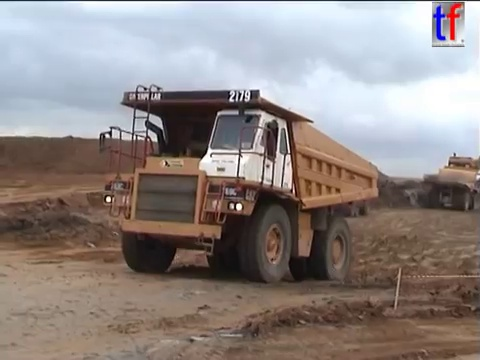excavator: (443, 151, 480, 189)
truck: (96, 81, 381, 286), (305, 168, 378, 218), (419, 163, 480, 213)
